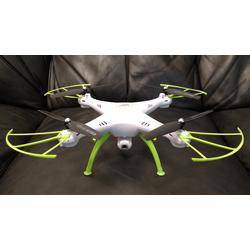drone: (5, 84, 245, 178)
